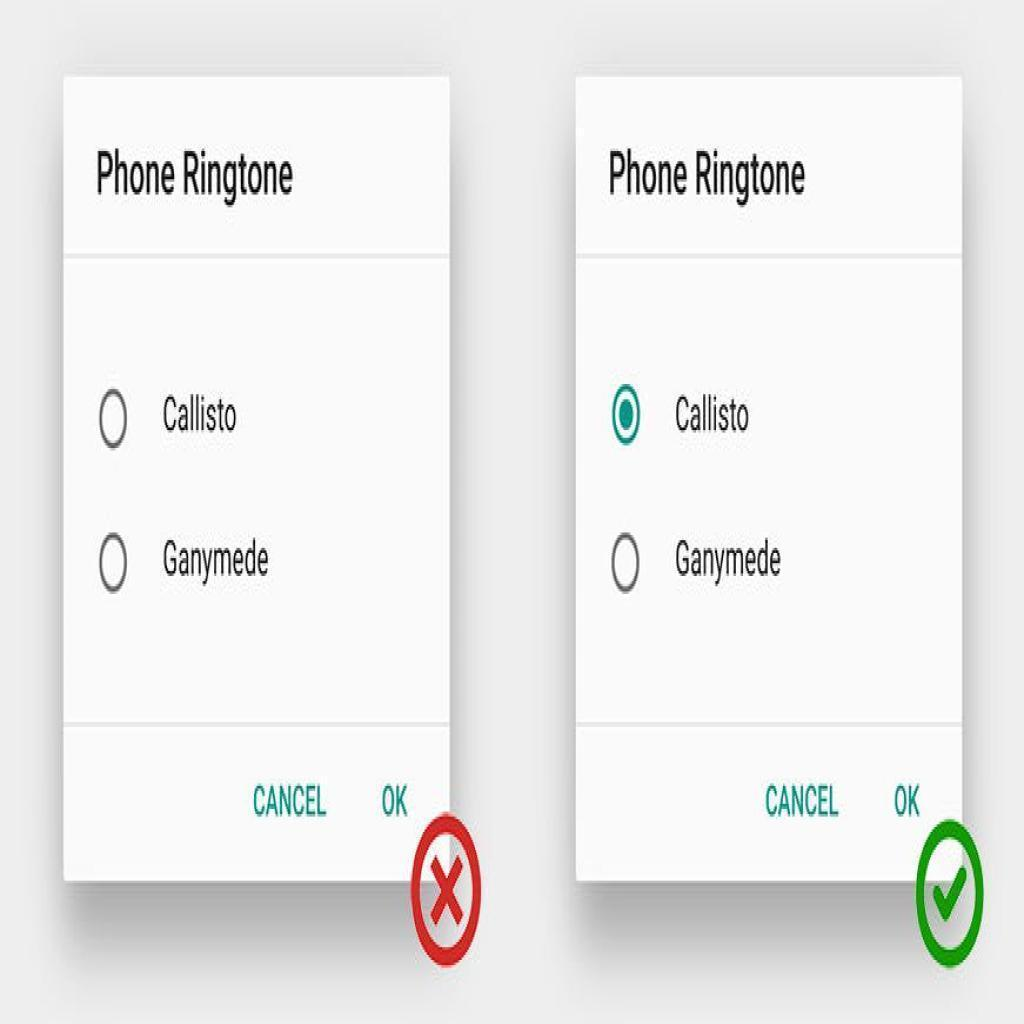checkbox: (410, 811, 485, 970), (916, 820, 983, 969)
label: (159, 530, 279, 590), (674, 533, 783, 591), (669, 387, 753, 441), (155, 390, 241, 441), (761, 780, 841, 825), (247, 779, 327, 823), (886, 783, 932, 819), (374, 784, 409, 818)
radio: (95, 386, 129, 451), (610, 531, 643, 597), (97, 530, 129, 596), (610, 383, 642, 445)
